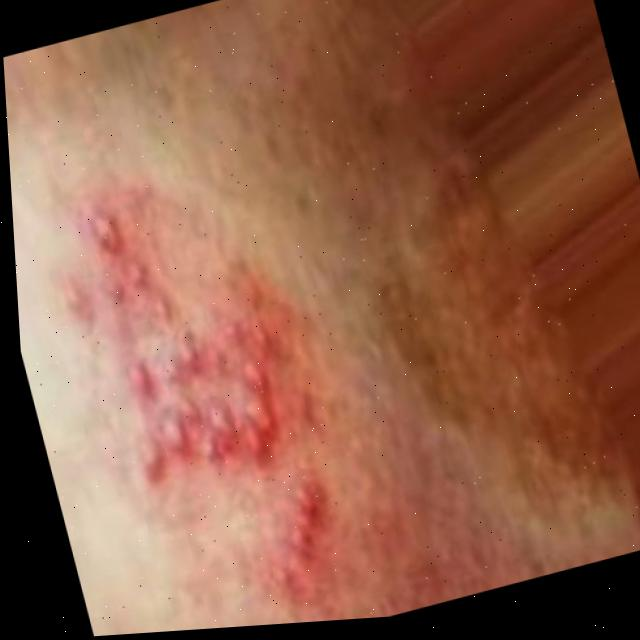Shingles: (32, 152, 349, 629)
